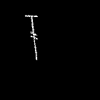treble_crochet: (29, 16, 36, 59)
